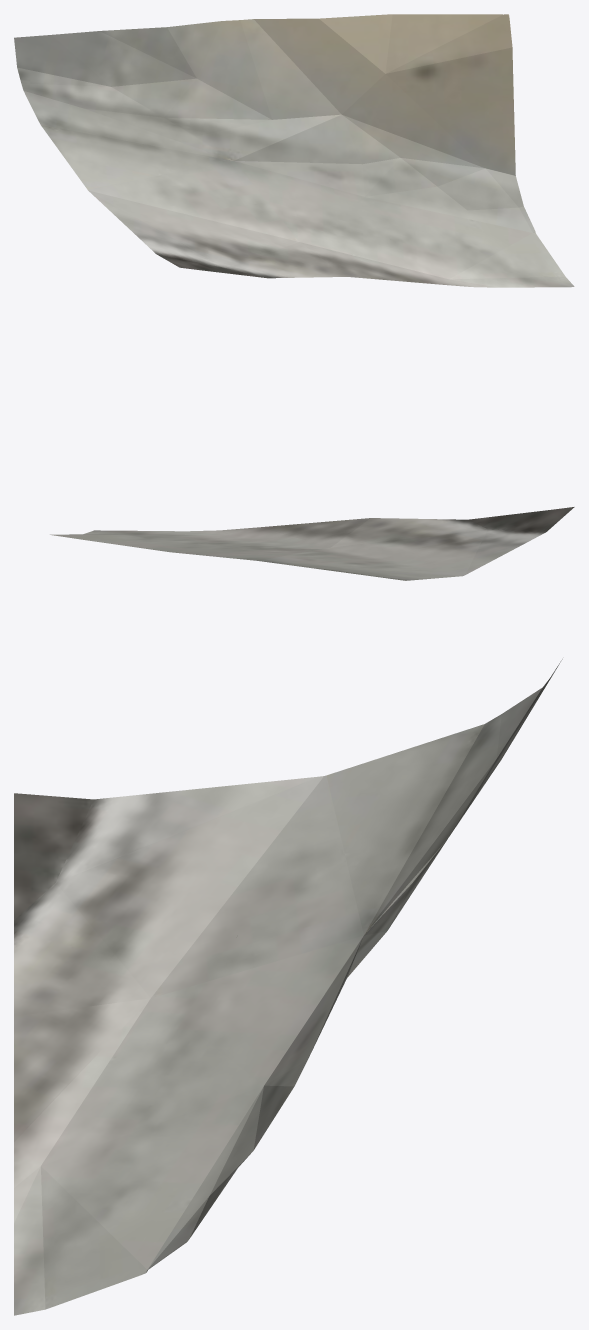
3 views of the same model, one above another, from view 1: azimuth 30°, elevation 25°; view 2: azimuth 150°, elevation 25°; view 3: azimuth 270°, elevation 25° (orthographic). The views are drawn at different scales.
Size of the model in its own units: 0.8374 by 0.4546 by 0.6081.
Materials: 2 (2 with a texture image).
